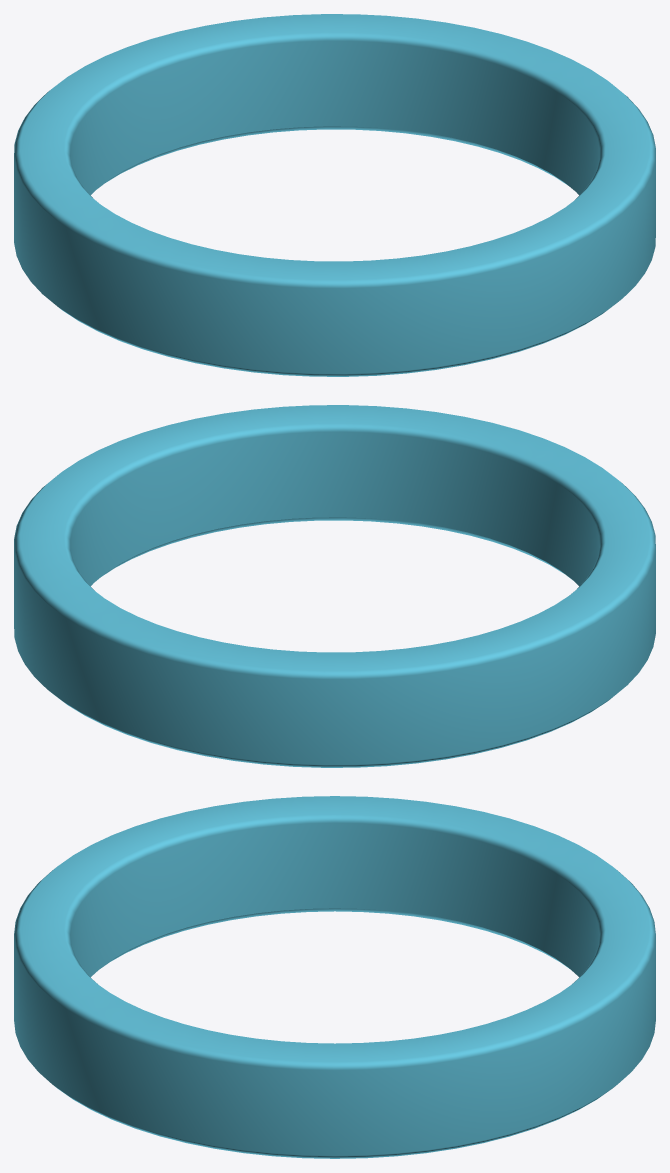
3 renders of one model, top to bottom at view 1: azimuth 30°, elevation 25°; view 2: azimuth 150°, elevation 25°; view 3: azimuth 270°, elevation 25°, orthographic.
Visible parts, largest first — view 1: seal_body; view 2: seal_body; view 3: seal_body.
Part boxes in pixels (<box>): seal_body: <box>14,14,655,376</box>; seal_body: <box>14,405,655,767</box>; seal_body: <box>14,796,655,1158</box>.
Bounding box in the file's own units: 0.054 × 0.009 × 0.054.
